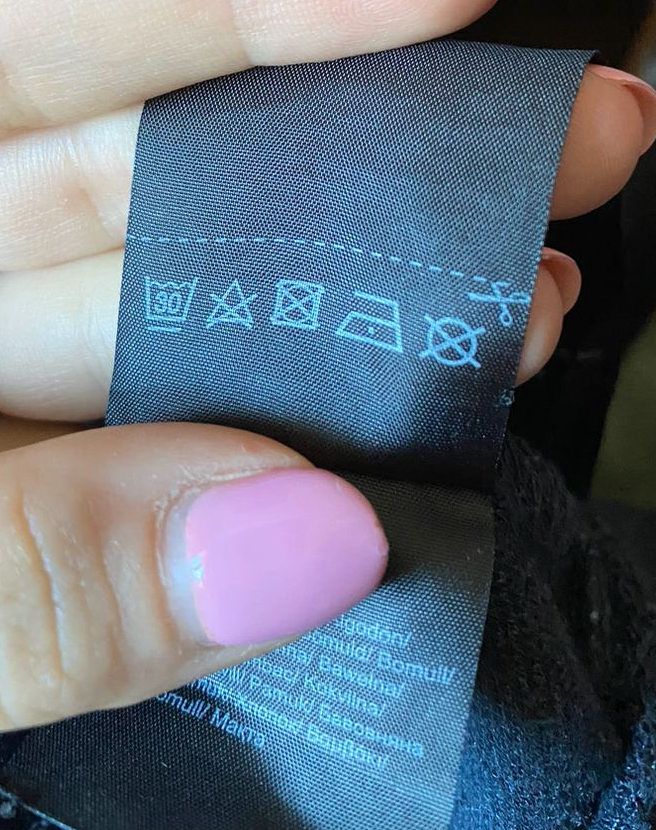do_not_bleach: (200, 275, 259, 332)
do_not_dry_clean: (417, 311, 487, 373)
do_not_tumble_drying: (268, 276, 328, 333)
ironing_at_low_temp: (335, 288, 406, 354)
wash_at_or_below_30_mild_fine_wash: (138, 269, 201, 335)
